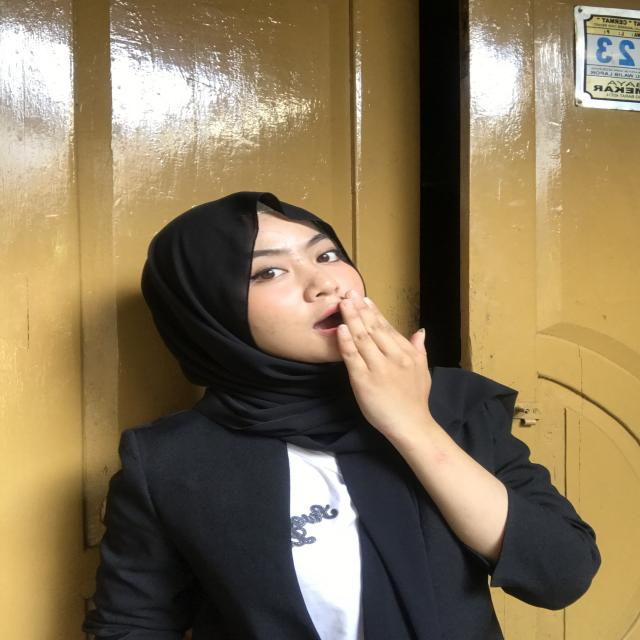ngantuk: (306, 286, 444, 433)
